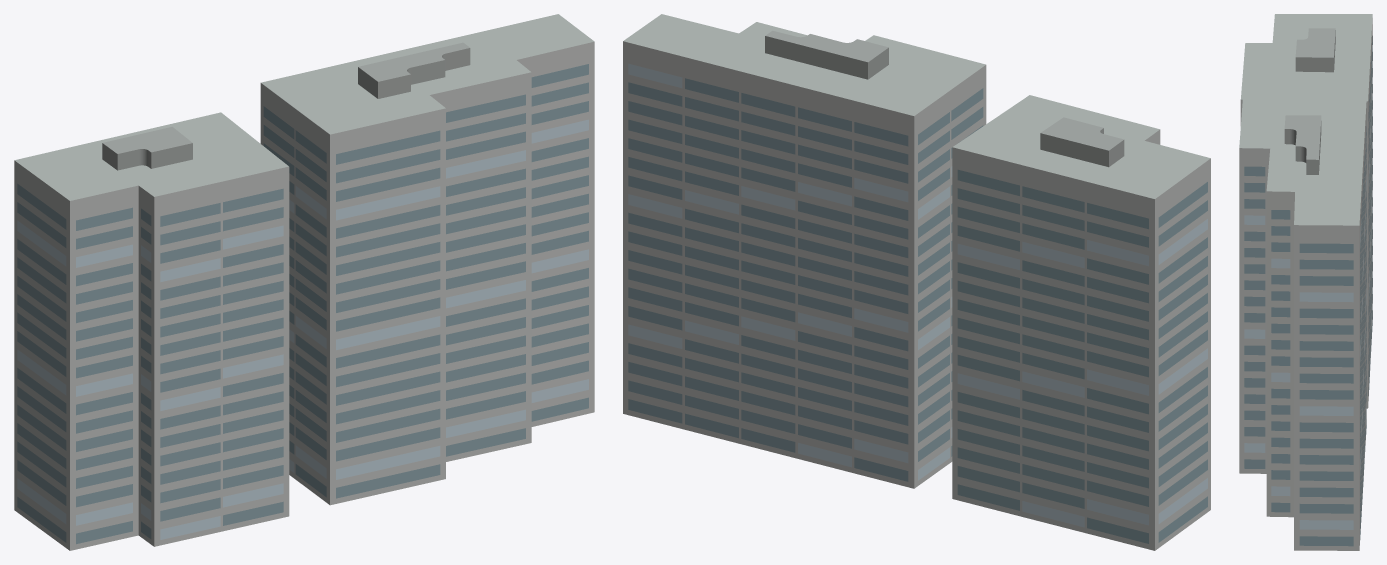
Rendered from apt-a13678401.glb.
3 views of the same model, side by side, from view 1: azimuth 30°, elevation 25°; view 2: azimuth 150°, elevation 25°; view 3: azimuth 270°, elevation 25° (orthographic). The views are drawn at different scales.
Visible parts, largest first — view 1: apt-a13678401; view 2: apt-a13678401; view 3: apt-a13678401.
Boxes of the visible parts, x1,y1,x2,y2 form: apt-a13678401: (14,14,594,550); apt-a13678401: (623,14,1210,550); apt-a13678401: (1239,14,1372,550).
Size of the model in its own units: 78.26 by 54 by 19.23.
